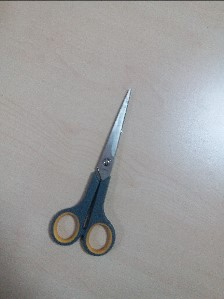scissors: (46, 84, 133, 258)
